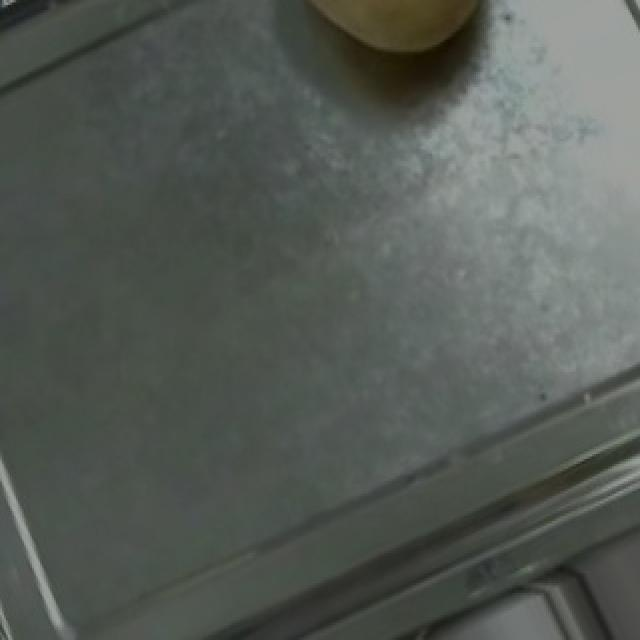Fruit: (264, 0, 520, 92)
